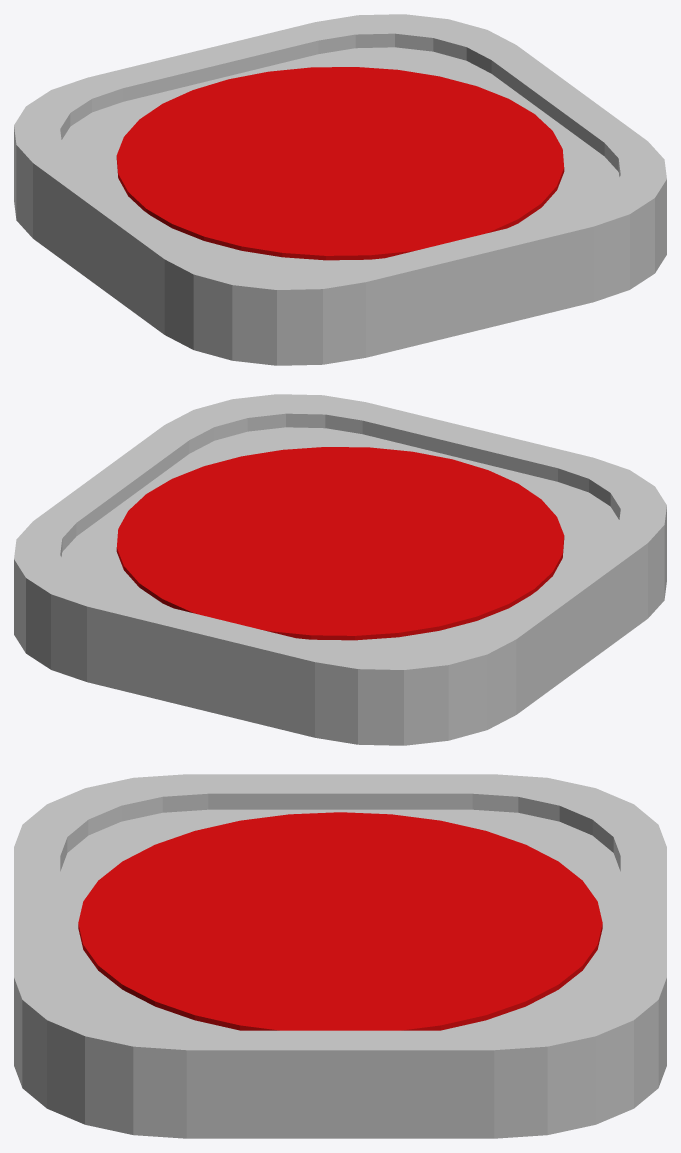
Rendered from labButton.glb.
3 views of the same model, one above another, from view 1: azimuth 30°, elevation 25°; view 2: azimuth 150°, elevation 25°; view 3: azimuth 270°, elevation 25° (orthographic). The views are drawn at different scales.
Visible parts, largest first — view 1: Cube.001; view 2: Cube.001; view 3: Cube.001.
Part boxes in pixels (bbox=[...]): Cube.001: bbox=[14, 14, 666, 365]; Cube.001: bbox=[14, 394, 666, 745]; Cube.001: bbox=[14, 774, 666, 1138].
Bounding box in the file's own units: 1.9 × 0.2843 × 1.9.
Materials: 2 (2 with a texture image).
